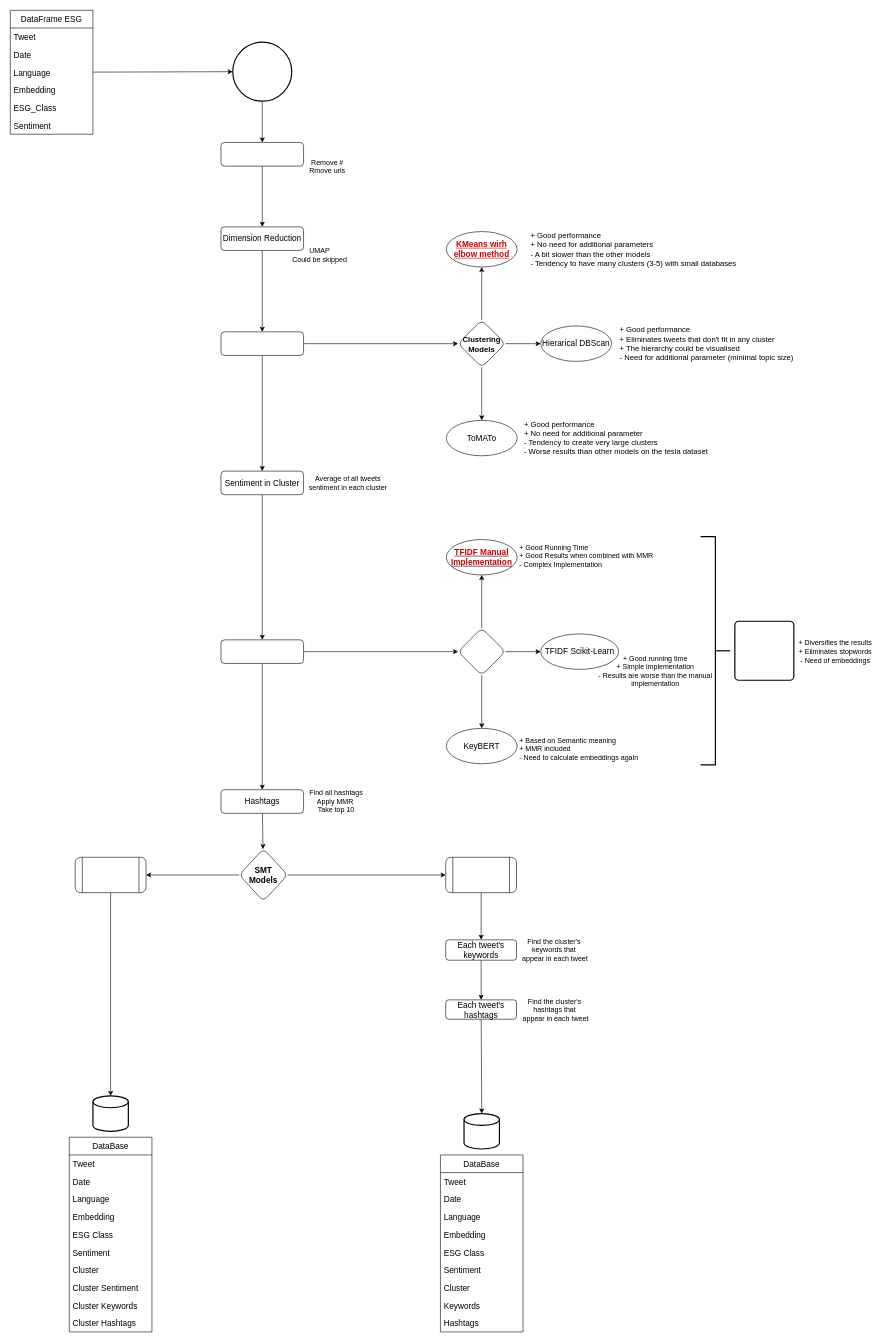
This 887x1342 diagram has some shape labels left out. Here are the shapes that lost their labels. From the top down, the centre of each, then its label:
the point at 262,71: ESG_Topic
the point at 262,154: Preprocess Tweets
the point at 262,343: Clustering
the point at 262,651: Keywords in Cluster
the point at 481,651: Keywords Models
the point at 764,650: Maximize Marginal Relevance
the point at 110,875: Model 1
the point at 481,875: Model 2
